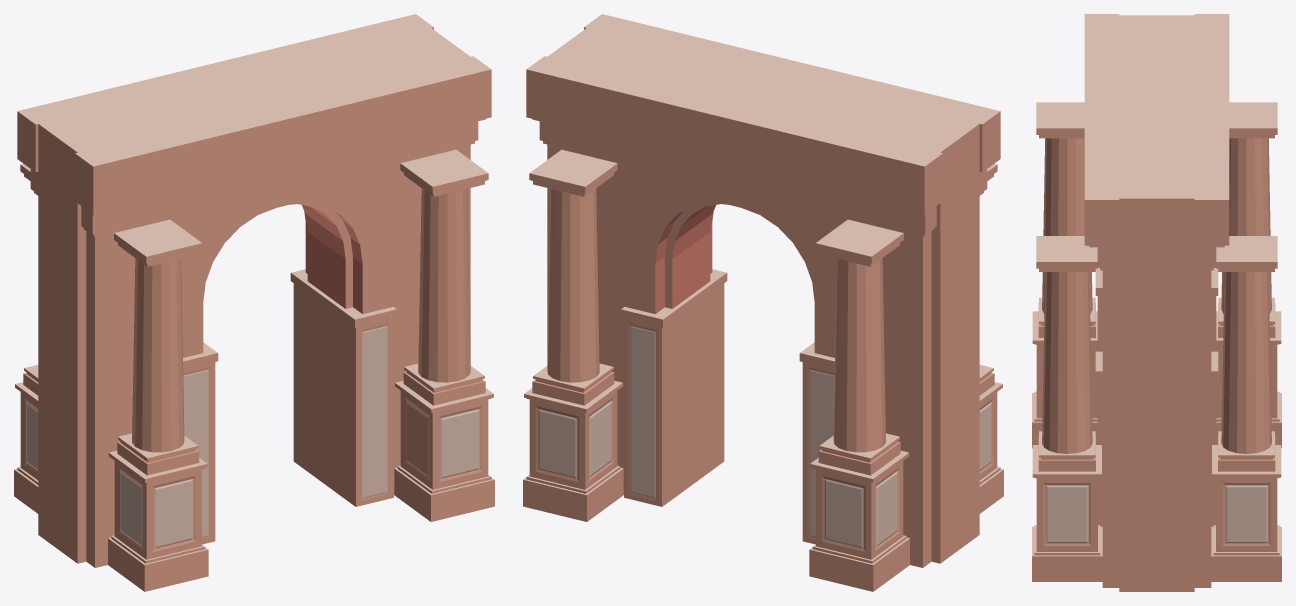
File: archarch2.glb
3 views of the same model, side by side, from view 1: azimuth 30°, elevation 25°; view 2: azimuth 150°, elevation 25°; view 3: azimuth 270°, elevation 25° (orthographic). The views are drawn at different scales.
Visible parts, largest first — view 1: Arch; view 2: Arch; view 3: Arch.
Boxes of the visible parts, left/top/right/bottom form: Arch: left=14, top=14, right=494, bottom=591; Arch: left=523, top=14, right=1003, bottom=591; Arch: left=1032, top=14, right=1281, bottom=591.
Size of the model in its own units: 4.06 by 4 by 2.3.
Materials: 1 (1 with a texture image).
